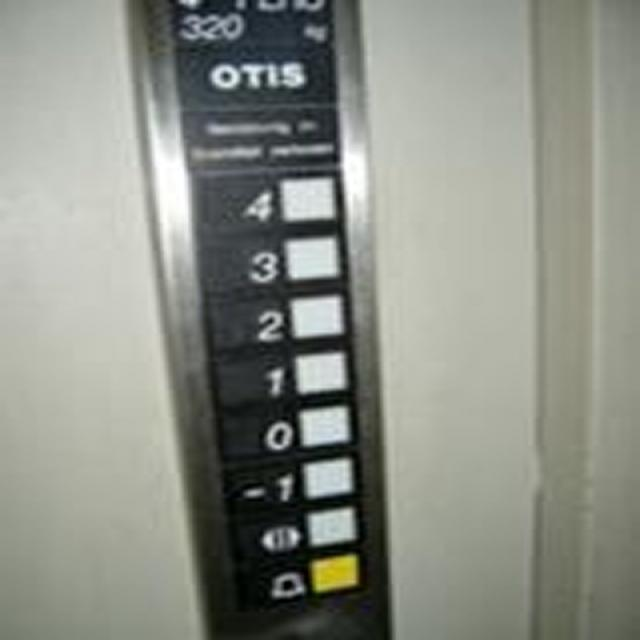-1: (216, 448, 363, 513)
0: (208, 398, 360, 459)
1: (205, 344, 359, 408)
2: (200, 290, 353, 347)
3: (194, 231, 350, 294)
4: (193, 164, 344, 233)
alarm: (226, 547, 366, 609)
open: (224, 502, 364, 560)
